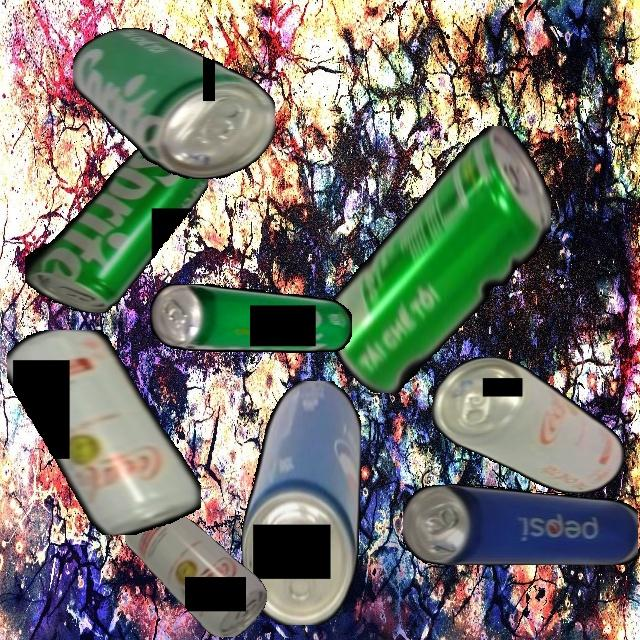debris: (331, 125, 551, 393), (7, 329, 201, 535), (24, 145, 208, 313), (72, 28, 275, 179), (240, 380, 361, 625), (432, 356, 624, 493), (125, 497, 267, 637), (403, 483, 638, 565), (150, 283, 352, 354)
